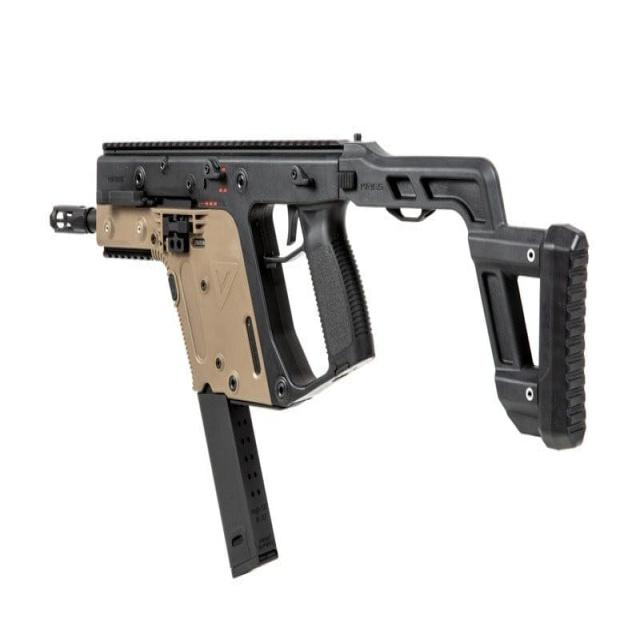SMG: (50, 139, 590, 580)
